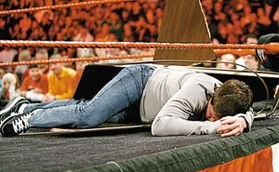falling: (5, 56, 264, 137)
